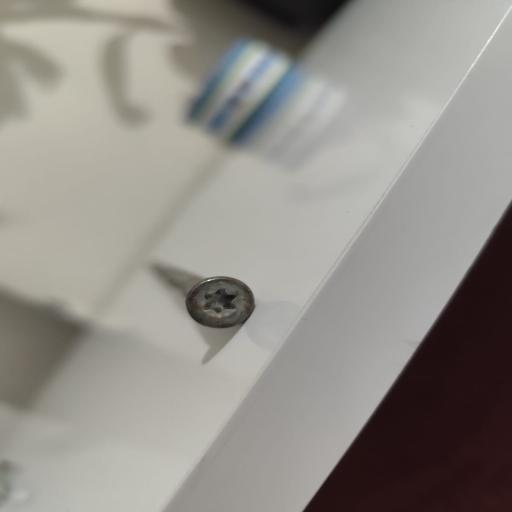Torx: (186, 271, 256, 331)
